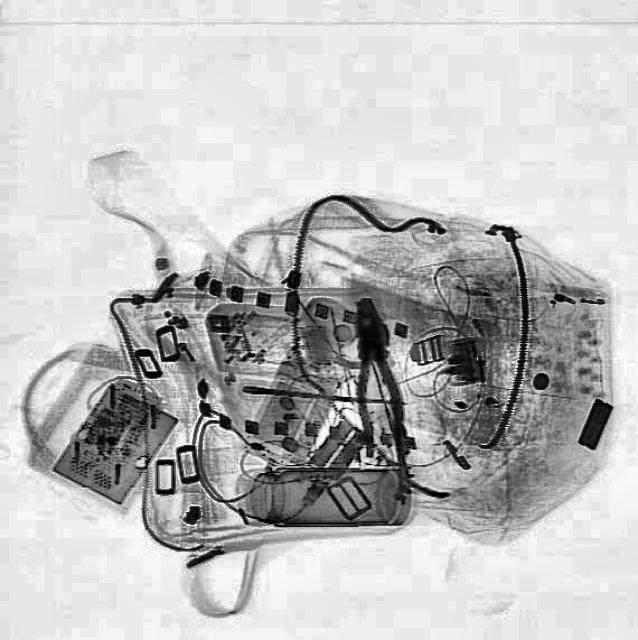Pliers: (340, 293, 412, 465)
